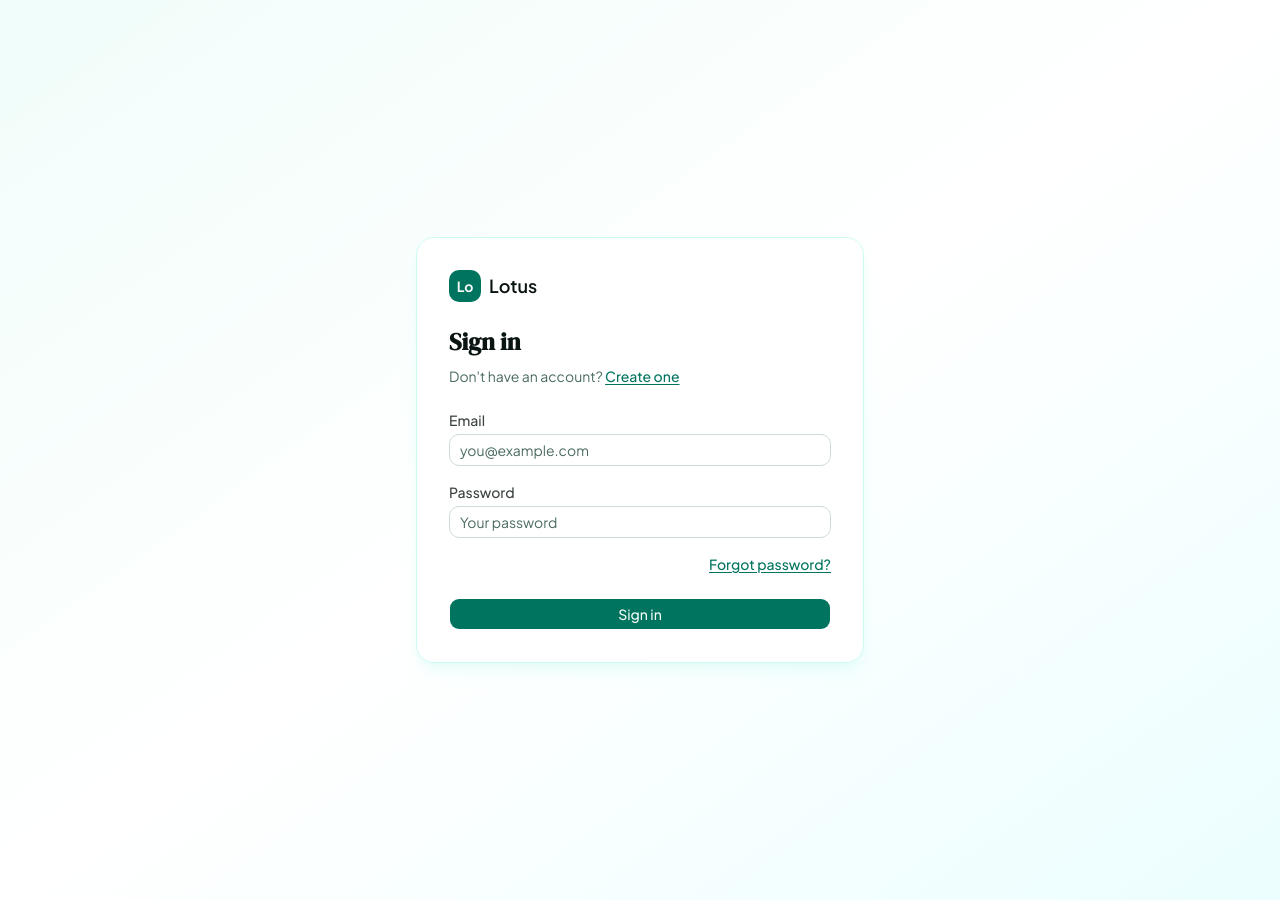
Scenario: Login redirect for unverified users › shows error message when sign-in fails
The width and height of the screenshot is (1280, 900).
Type "test@example.com" into the field labelled "Email". click: (640, 450)
box: [449,434,831,466]
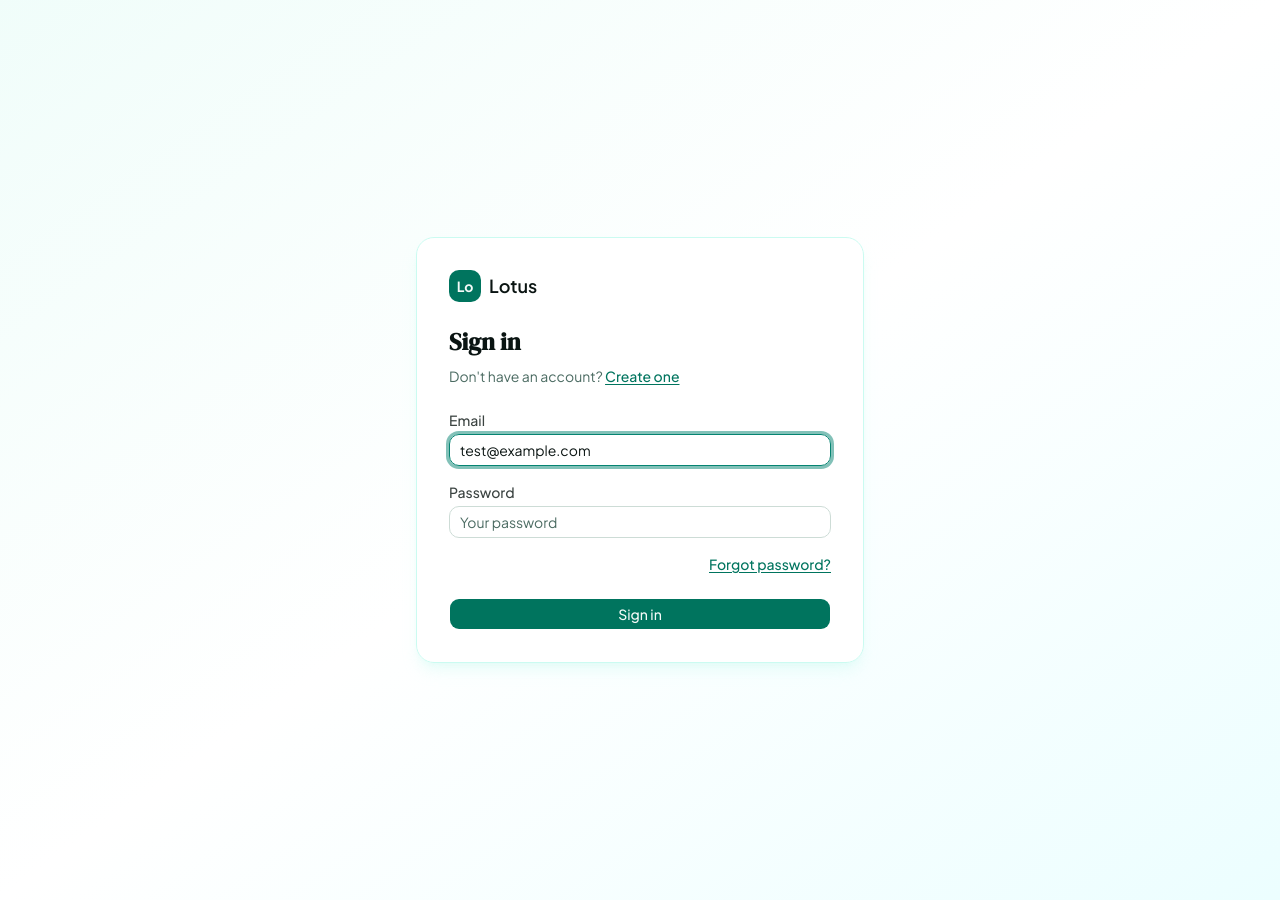
Type "password123" into the password field labelled "Password". click: (640, 522)
box: [449,506,831,538]
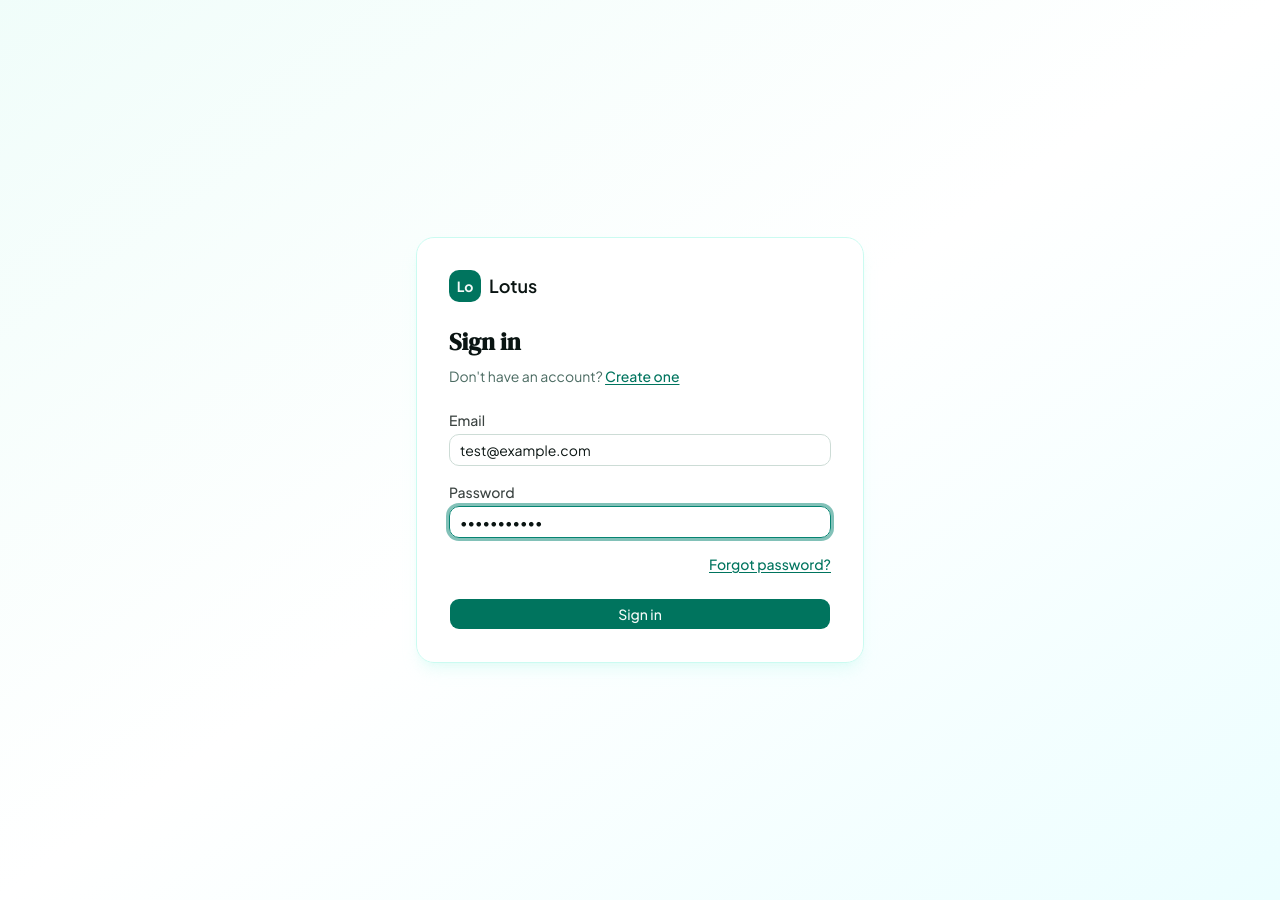
Click the button "Sign in". click: (640, 614)
box: [449,598,831,630]
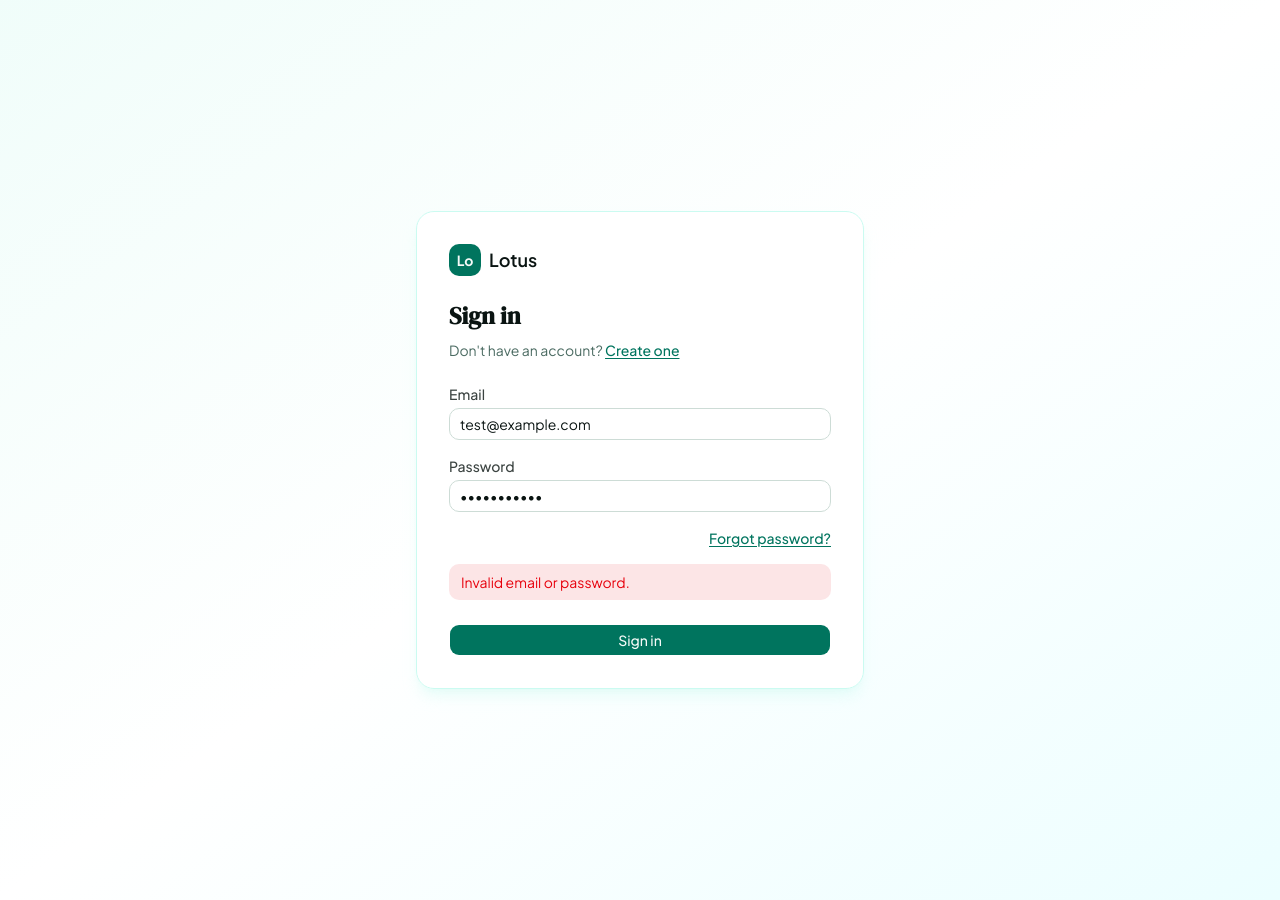
Now the message "Invalid email or password." is shown, box [449,564,831,600]
